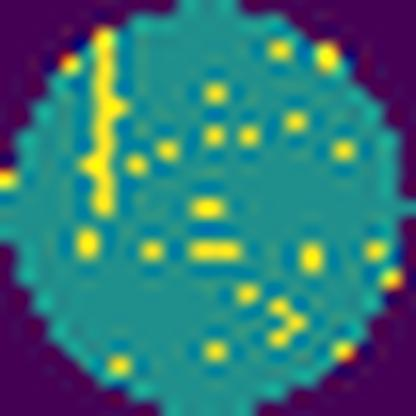Scratch: (68, 22, 136, 222)
